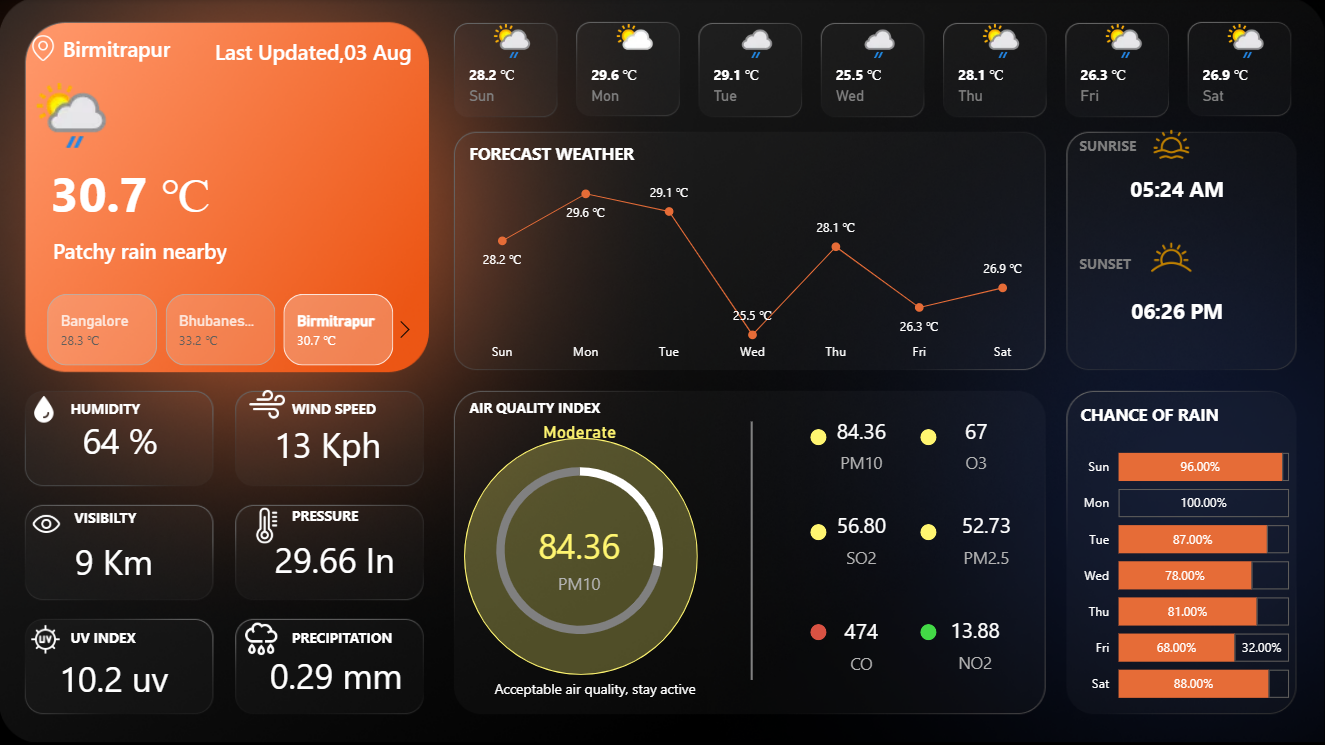

What the dashboard file says about the page in this screenshot:
{"tool":"powerbi","page":{"name":"WEATHER DASHBOARD","canvas":[1280,720],"ordinal":0},"visuals":[{"type":"shape","box":[448.3,423.1,225.8,228.9],"z":0},{"type":"advancedSlicerVisual","fields":{"Values":["Locations.location.name"]},"box":[22,279.9,385.6,79.6],"z":1000},{"type":"shape","box":[0,127.6,253.9,116.6],"z":2000},{"type":"shape","box":[17.8,223.7,236,39.8],"z":3000},{"type":"shape","box":[61.7,27.4,205.8,39.8],"z":4000},{"type":"shape","box":[174.5,30,223.2,40.1],"z":5000},{"type":"image","box":[23.3,30.2,38.4,34.3],"z":6000},{"type":"cardVisual","fields":{"Data":["Min(Current.current.condition.icon)"]},"box":[0,50.8,127.6,122.1],"z":7000},{"type":"image","box":[22,377.4,42.5,37],"z":8000},{"type":"image","box":[229.2,485.8,59,43.9],"z":9000},{"type":"image","box":[229.2,367.8,59,46.7],"z":10000},{"type":"image","box":[17.8,485.8,54.9,41.2],"z":11000},{"type":"image","box":[11,598.3,67.2,39.8],"z":12000},{"type":"image","box":[212.7,594.2,81,48],"z":13000},{"type":"textbox","box":[64.5,381.5,81,28.8],"z":14000},{"type":"textbox","box":[277.2,381.5,109.8,32.9],"z":15000},{"type":"textbox","box":[53.5,485.8,102.9,31.6],"z":16000},{"type":"textbox","box":[64.5,602.4,109.8,32.9],"z":17000},{"type":"textbox","box":[277.2,484.4,109.8,32.9],"z":18000},{"type":"textbox","box":[277.2,602.4,109.8,32.9],"z":19000},{"type":"card","fields":{"Values":["_Measures.Humidity"]},"box":[53.5,367.8,127.6,116.6],"z":20000},{"type":"card","fields":{"Values":["_Measures.Wind_speed"]},"box":[240.6,383.2,154.3,94.2],"z":21000},{"type":"card","fields":{"Values":["_Measures.Visibilty"]},"box":[46.7,484.4,127.6,116.6],"z":22000},{"type":"card","fields":{"Values":["_Measures.Pressure"]},"box":[253.4,493.4,141.2,96.5],"z":23000},{"type":"card","fields":{"Values":["_Measures.UV"]},"box":[46.7,598.3,127.6,116.6],"z":24000},{"type":"card","fields":{"Values":["_Measures.Precipitation"]},"box":[253.7,614.6,143.9,79.8],"z":25000},{"type":"advancedSlicerVisual","fields":{"Values":["Forecast_Day.Day_name"]},"box":[435,12.3,832.9,100.2],"z":26000},{"type":"lineChart","title":"FORECAST WEATHER","fields":{"Y":["Sum(Forecast_Day.forecast.forecastday.day.avgtemp_f)"],"Category":["Forecast_Day.Day_name"]},"box":[448.3,137.3,557.3,221],"z":27000},{"type":"textbox","box":[1037.2,127.9,232.1,34.7],"z":28000},{"type":"shape","box":[1037.2,124.7,198.9,116.8],"z":29000},{"type":"shape","box":[1037.2,241.5,198.9,116.8],"z":30000},{"type":"textbox","box":[1037.2,241.5,150,37.9],"z":31000},{"type":"image","box":[1108.2,118.4,45.8,44.2],"z":32000},{"type":"image","box":[1094,217.9,74.2,61.6],"z":33000},{"type":"hundredPercentStackedBarChart","title":"CHANCE OF RAIN","fields":{"Y":["Sum(Forecast_Day.forecast.forecastday.day.daily_chance_of_rain)","_Measures.Left_Value_rain"],"Category":["Forecast_Day.Day_name"]},"box":[1038.8,389.9,211.5,304.7],"z":34000},{"type":"textbox","box":[448.3,380.5,150,34.7],"z":35000},{"type":"card","fields":{"Values":["Sum(Current.current.air_quality.o3)"]},"box":[879.5,395.7,127.9,67.6],"z":36000},{"type":"card","fields":{"Values":["Sum(Current.current.air_quality.pm2_5)"]},"box":[889.1,487.4,127.9,66.4],"z":37000},{"type":"card","fields":{"Values":["Sum(Current.current.air_quality.no2)"]},"box":[878.3,588.7,127.9,66.4],"z":38000},{"type":"card","fields":{"Values":["Sum(Current.current.air_quality.pm10)"]},"box":[768.5,395.7,127.9,67.6],"z":39000},{"type":"card","fields":{"Values":["Sum(Current.current.air_quality.so2)"]},"box":[768.5,487.4,127.9,66.4],"z":40000},{"type":"card","fields":{"Values":["Sum(Current.current.air_quality.co)"]},"box":[768.5,588.7,127.9,68.8],"z":41000},{"type":"shape","box":[888.8,603.1,15.8,15.8],"z":42000},{"type":"shape","box":[783,603.1,15.8,15.8],"z":43000},{"type":"shape","box":[888.8,506.8,15.8,15.8],"z":44000},{"type":"shape","box":[783,506.8,15.8,15.8],"z":45000},{"type":"shape","box":[888.8,415.2,15.8,15.8],"z":46000},{"type":"shape","box":[783,415.2,15.8,15.8],"z":47000},{"type":"card","fields":{"Values":["Sum(Current.current.air_quality.pm10)"]},"box":[468.9,472,181.5,134.2],"z":48000},{"type":"donutChart","fields":{"Y":["Sum(Current.current.air_quality.pm10)","_Measures.Left_value_PM10"]},"box":[352,407.3,416.8,230.5],"z":49000},{"type":"shape","box":[652,407.3,150,249.4],"z":50000},{"type":"shape","box":[435.7,647.3,279.4,34.7],"z":51000}]}

Visuals, with their boxes in screenshot pixels (x1, y1, x2, y2), scaled from the page's 1280x720 canvas onto the 1325x745 screenshot:
shape: 464:438:698:675
advancedSlicerVisual - Locations.location.name: 23:290:422:372
shape: 0:132:263:253
shape: 18:231:263:273
shape: 64:28:277:70
shape: 181:31:412:73
image: 24:31:64:67
cardVisual - Min(Current.current.condition.icon): 0:53:132:179
image: 23:391:67:429
image: 237:503:298:548
image: 237:381:298:429
image: 18:503:75:545
image: 11:619:81:660
image: 220:615:304:664
textbox: 67:395:151:425
textbox: 287:395:401:429
textbox: 55:503:162:535
textbox: 67:623:180:657
textbox: 287:501:401:535
textbox: 287:623:401:657
card - _Measures.Humidity: 55:381:187:501
card - _Measures.Wind_speed: 249:397:409:494
card - _Measures.Visibilty: 48:501:180:622
card - _Measures.Pressure: 262:511:408:610
card - _Measures.UV: 48:619:180:740
card - _Measures.Precipitation: 263:636:412:719
advancedSlicerVisual - Forecast_Day.Day_name: 450:13:1312:116
"FORECAST WEATHER" lineChart: 464:142:1041:371
textbox: 1074:132:1314:168
shape: 1074:129:1280:250
shape: 1074:250:1280:371
textbox: 1074:250:1229:289
image: 1147:123:1195:168
image: 1132:225:1209:289
"CHANCE OF RAIN" hundredPercentStackedBarChart: 1075:403:1294:719
textbox: 464:394:619:430
card - Sum(Current.current.air_quality.o3): 910:409:1043:479
card - Sum(Current.current.air_quality.pm2_5): 920:504:1053:573
card - Sum(Current.current.air_quality.no2): 909:609:1042:678
card - Sum(Current.current.air_quality.pm10): 796:409:928:479
card - Sum(Current.current.air_quality.so2): 796:504:928:573
card - Sum(Current.current.air_quality.co): 796:609:928:680
shape: 920:624:936:640
shape: 811:624:827:640
shape: 920:524:936:541
shape: 811:524:827:541
shape: 920:430:936:446
shape: 811:430:827:446
card - Sum(Current.current.air_quality.pm10): 485:488:673:627
donutChart - Sum(Current.current.air_quality.pm10) x _Measures.Left_value_PM10: 364:421:796:660
shape: 675:421:830:680
shape: 451:670:740:706
